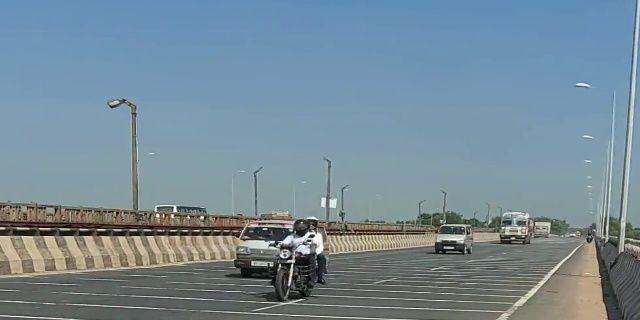Motorbike: (269, 213, 328, 301)
Truck: (496, 208, 533, 249)
Van: (232, 214, 278, 277), (433, 219, 475, 259)
